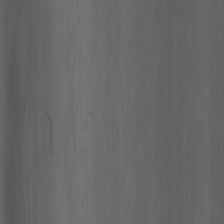water_spot: (43, 99, 60, 158)
